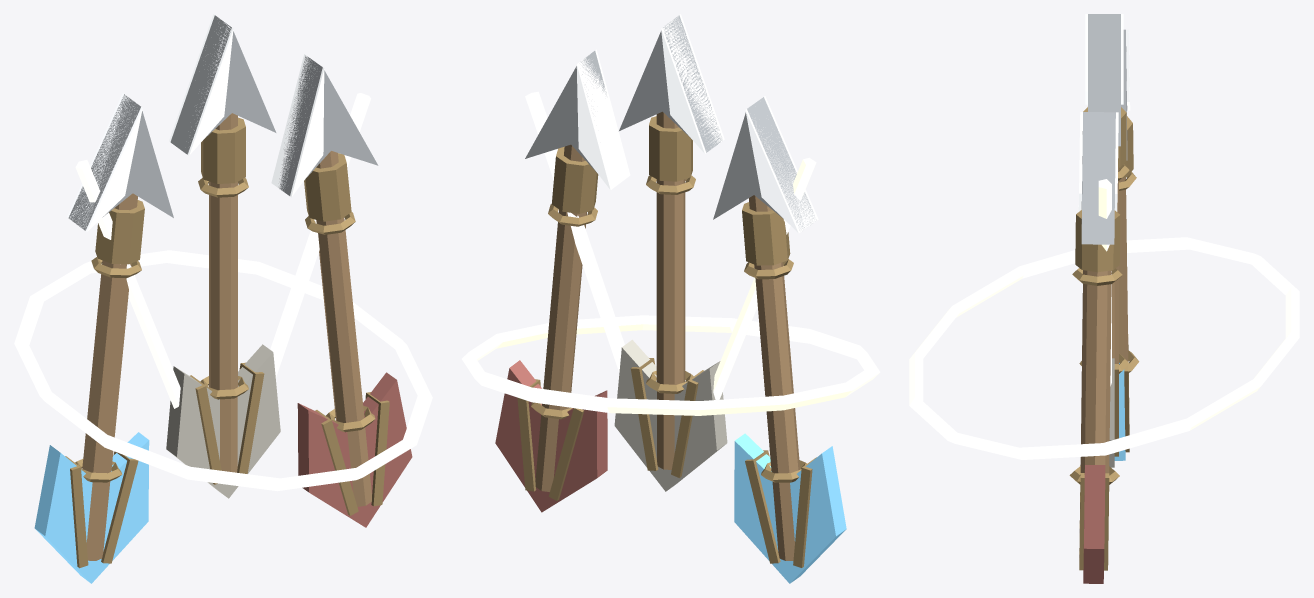
File: multi_shot.glb
3 renders of one model, left to right at view 1: azimuth 30°, elevation 25°; view 2: azimuth 150°, elevation 25°; view 3: azimuth 270°, elevation 25°, orthographic. The views are drawn at different scales.
Parts seen in each view (by area): view 1: VolleyWindRing, Shaft.003, Shaft.004, Shaft.005, ForgedArrowhead.003, ForgedArrowhead.004, ForgedArrowhead.005, Fletching_-1.004, Fletching_-1.003, Fletching_-1.005, HeadEdgeLeft.004, HeadEdgeLeft.005 (+18 smaller); view 2: VolleyWindRing, Shaft.003, Shaft.004, Shaft.005, ForgedArrowhead.004, ForgedArrowhead.003, HeadEdgeLeft.005, HeadEdgeLeft.003, Fletching_-1.004, Fletching_-1.005, Fletching_1.004, HeadEdgeLeft.004 (+17 smaller); view 3: VolleyWindRing, Shaft.005, ForgedArrowhead.005, ForgedArrowhead.003, Fletching_1.005, HeadCollar.005, Shaft.004, FletchingRib_1.005, VolleyGuide_1, HeadEdgeLeft.005, Shaft.003, HeadEdgeLeft.003 (+1 smaller).
Boxes of the visible parts, <box> form: VolleyWindRing: <box>14,250,432,491</box>; Shaft.003: <box>209,113,237,472</box>; Shaft.004: <box>82,193,137,560</box>; Shaft.005: <box>316,151,371,506</box>; ForgedArrowhead.003: <box>170,15,276,154</box>; ForgedArrowhead.004: <box>68,94,173,230</box>; ForgedArrowhead.005: <box>279,56,378,195</box>; Fletching_-1.004: <box>34,445,93,583</box>; Fletching_-1.003: <box>166,366,228,498</box>; Fletching_-1.005: <box>297,403,365,527</box>; HeadEdgeLeft.004: <box>67,93,142,231</box>; HeadEdgeLeft.005: <box>271,54,324,197</box>; VolleyWindRing: <box>462,315,880,415</box>; Shaft.003: <box>656,111,685,469</box>; Shaft.004: <box>749,195,800,560</box>; Shaft.005: <box>535,144,586,491</box>; ForgedArrowhead.004: <box>713,97,816,230</box>; ForgedArrowhead.003: <box>619,15,722,152</box>; HeadEdgeLeft.005: <box>576,49,630,190</box>; HeadEdgeLeft.003: <box>661,14,724,153</box>; Fletching_-1.004: <box>788,446,846,583</box>; Fletching_-1.005: <box>541,390,607,512</box>; Fletching_1.004: <box>734,433,789,583</box>; HeadEdgeLeft.004: <box>745,96,818,233</box>; VolleyWindRing: <box>909,237,1299,459</box>; Shaft.005: <box>1079,270,1111,557</box>; ForgedArrowhead.005: <box>1081,112,1115,244</box>; ForgedArrowhead.003: <box>1088,14,1120,146</box>; Fletching_1.005: <box>1083,465,1105,583</box>; HeadCollar.005: <box>1075,210,1120,272</box>; Shaft.004: <box>1119,177,1129,434</box>; FletchingRib_1.005: <box>1079,473,1109,570</box>; VolleyGuide_1: <box>1098,179,1111,386</box>; HeadEdgeLeft.005: <box>1078,112,1118,211</box>; Shaft.003: <box>1112,167,1118,363</box>; HeadEdgeLeft.003: <box>1085,14,1123,104</box>.
Size of the model in its own units: 0.991 by 1.37 by 0.9517.
